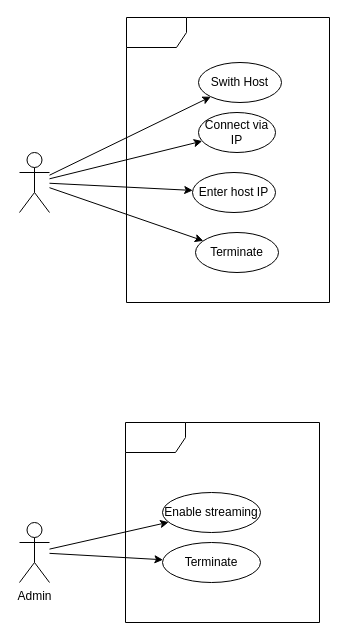
Image size: 347x640. Some labels were removed from this diagram. Each missing label, with the box of its shape:
Client: (18, 152, 50, 212)
Client App: (126, 16, 330, 302)
Server App: (124, 422, 320, 622)
